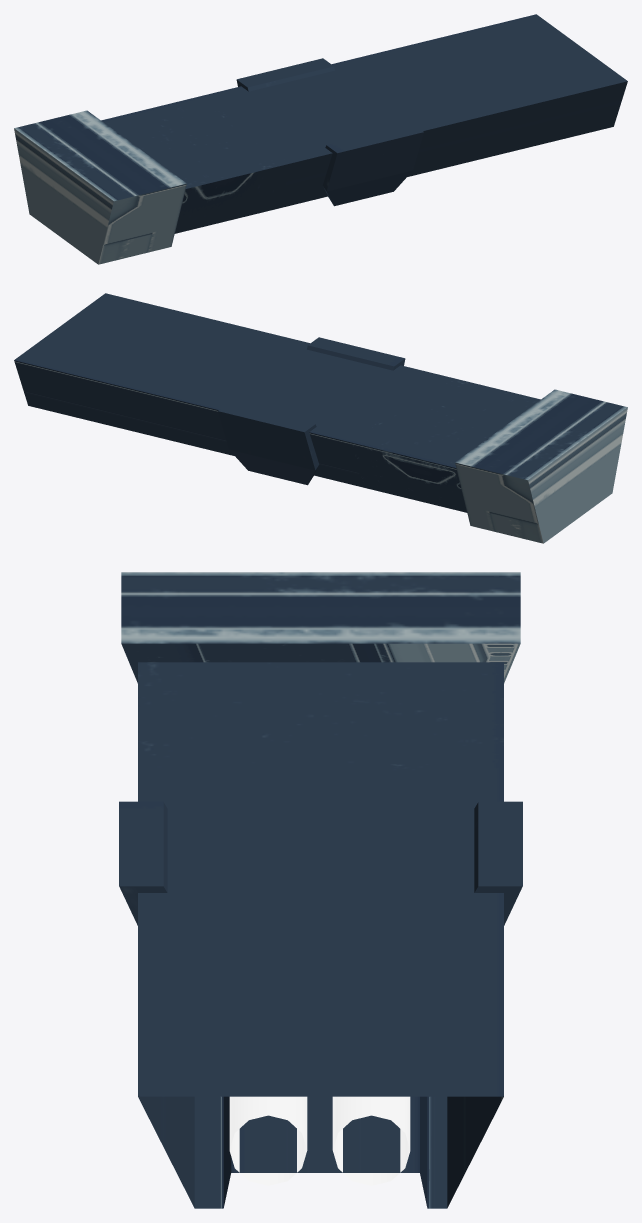
Rendered from Prop_Light_Wide.gltf.
3 views of the same model, one above another, from view 1: azimuth 30°, elevation 25°; view 2: azimuth 150°, elevation 25°; view 3: azimuth 270°, elevation 25° (orthographic). The views are drawn at different scales.
Visible parts, largest first — view 1: Prop_Light_Wide; view 2: Prop_Light_Wide; view 3: Prop_Light_Wide.
Part boxes in pixels (x1=…): Prop_Light_Wide: x1=14, y1=14, x2=627, y2=264; Prop_Light_Wide: x1=14, y1=293, x2=627, y2=543; Prop_Light_Wide: x1=119, y1=572, x2=522, y2=1208.
Size of the model in its own units: 1.32 by 0.1819 by 0.4453.
Materials: 2 (1 with a texture image).
